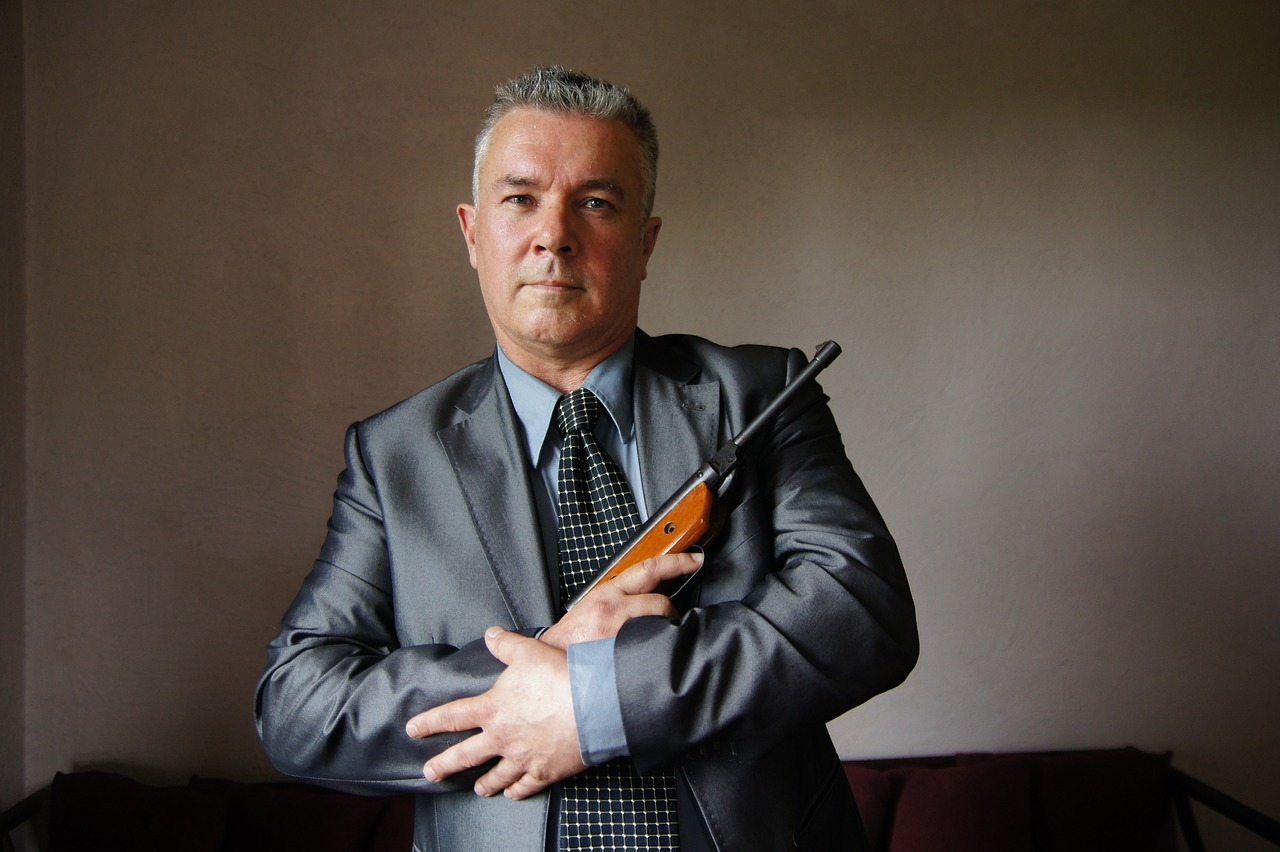gun: (560, 332, 848, 618)
